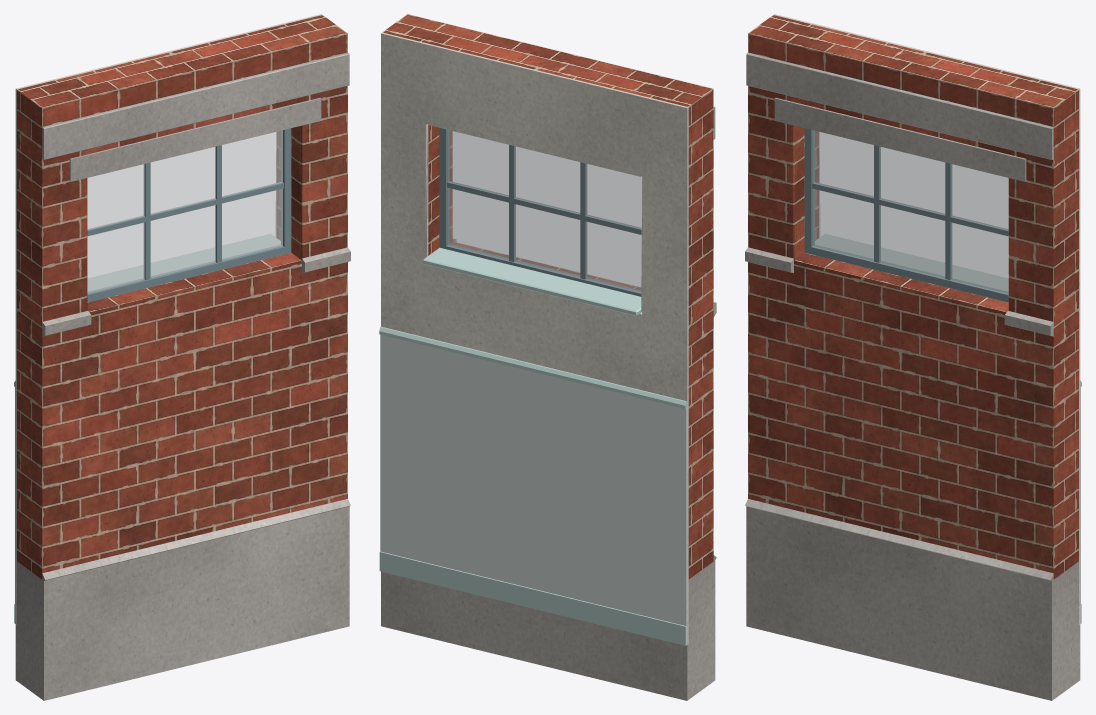
File: w_win.glb
The picture shows the model from 3 angles, left to right: view 1: azimuth 30°, elevation 25°; view 2: azimuth 150°, elevation 25°; view 3: azimuth 330°, elevation 25°; orthographic projection.
Visible parts, largest first — view 1: w_win_brick, w_win_concrete, w_win_glass_f, w_win_frame, w_win_tile_c, w_win_plaster; view 2: w_win_tile_w, w_win_plaster, w_win_brick, w_win_concrete, w_win_glass_f, w_win_tile_c, w_win_frame; view 3: w_win_brick, w_win_concrete, w_win_glass_f, w_win_frame, w_win_tile_c, w_win_plaster.
Boxes of the visible parts, box(x1,y1,x2,y2) form: w_win_brick: box(17, 15, 347, 579); w_win_concrete: box(15, 52, 350, 700); w_win_glass_f: box(87, 130, 282, 293); w_win_frame: box(87, 128, 291, 302); w_win_tile_c: box(14, 234, 280, 623); w_win_plaster: box(15, 14, 322, 624); w_win_tile_w: box(380, 334, 687, 645); w_win_plaster: box(381, 32, 688, 644); w_win_brick: box(382, 14, 713, 579); w_win_concrete: box(381, 106, 716, 700); w_win_glass_f: box(447, 130, 641, 291); w_win_tile_c: box(379, 247, 687, 645); w_win_frame: box(439, 128, 641, 296); w_win_brick: box(748, 15, 1078, 579); w_win_concrete: box(745, 52, 1080, 700); w_win_glass_f: box(813, 130, 1008, 293); w_win_frame: box(804, 128, 1008, 302); w_win_tile_c: box(815, 234, 1081, 623); w_win_plaster: box(773, 14, 1080, 624).
Size of the model in its own units: 2 by 3.7 by 0.385.
Materials: 7 (3 with a texture image).
